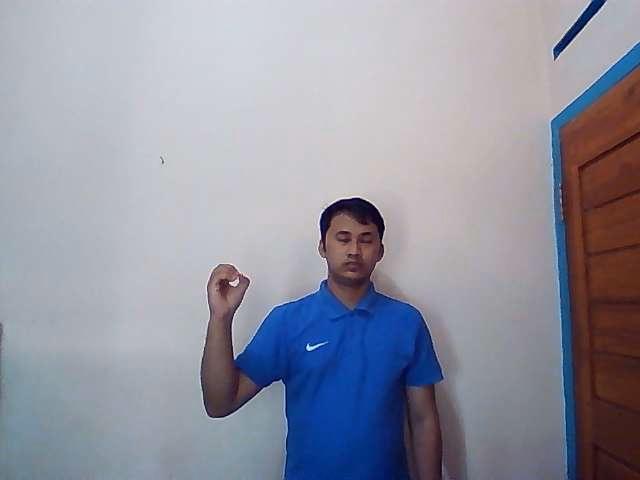O: (205, 263, 251, 318)
